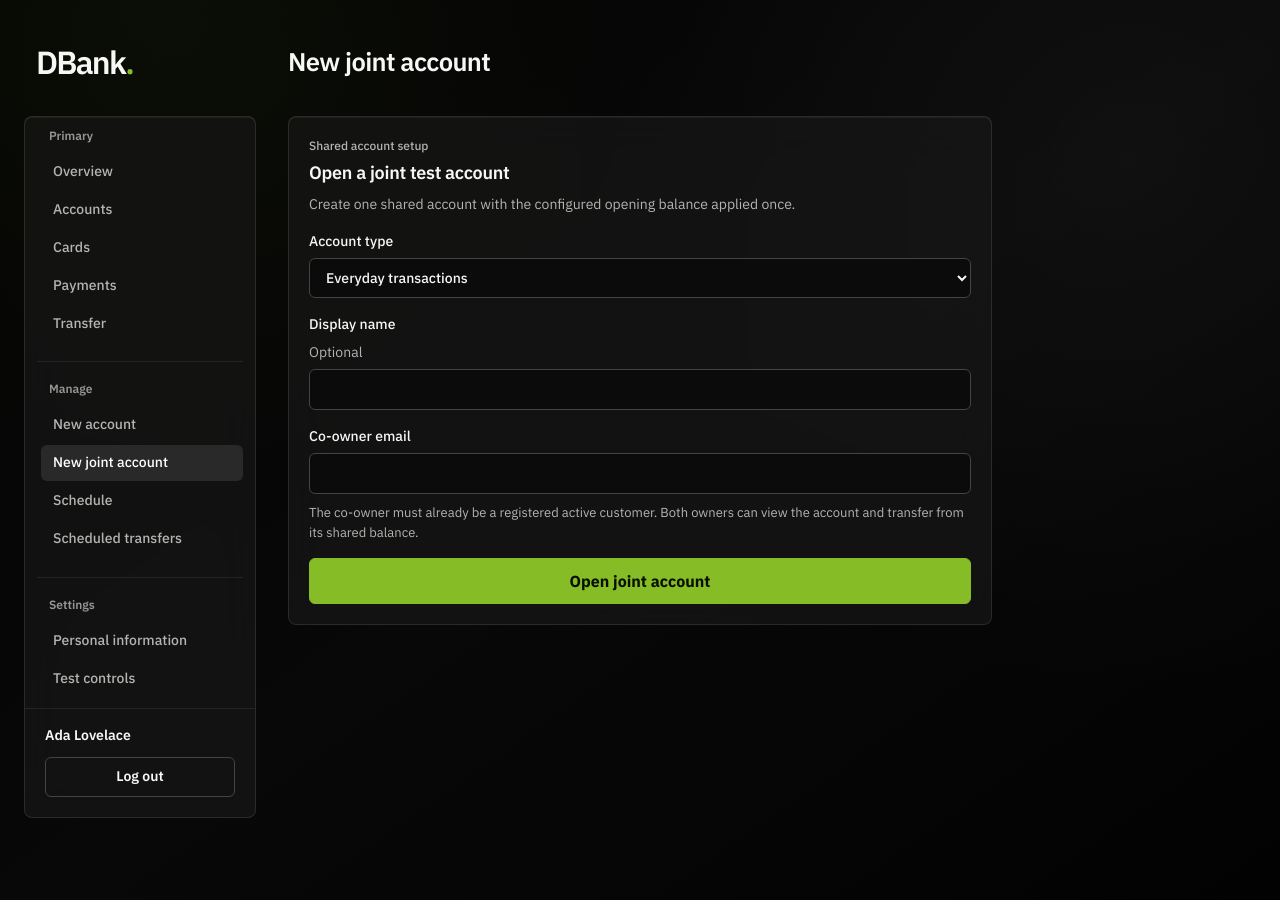
Scenario: Dashboard banking functions › creates a joint account with exactly three product types and no client-owned balance or owner IDs
This screenshot has width=1280, height=900.
Expected: the form with test id "joint-account-create-form" is shown, [309, 231, 971, 604]
Expected: the text with test id "joint-account-create-co-owner-help" shows "registered active customer", [309, 504, 964, 541]
Select "Business" in the dropdown labelled "Account type" at point(640, 278), box [309, 258, 971, 298]
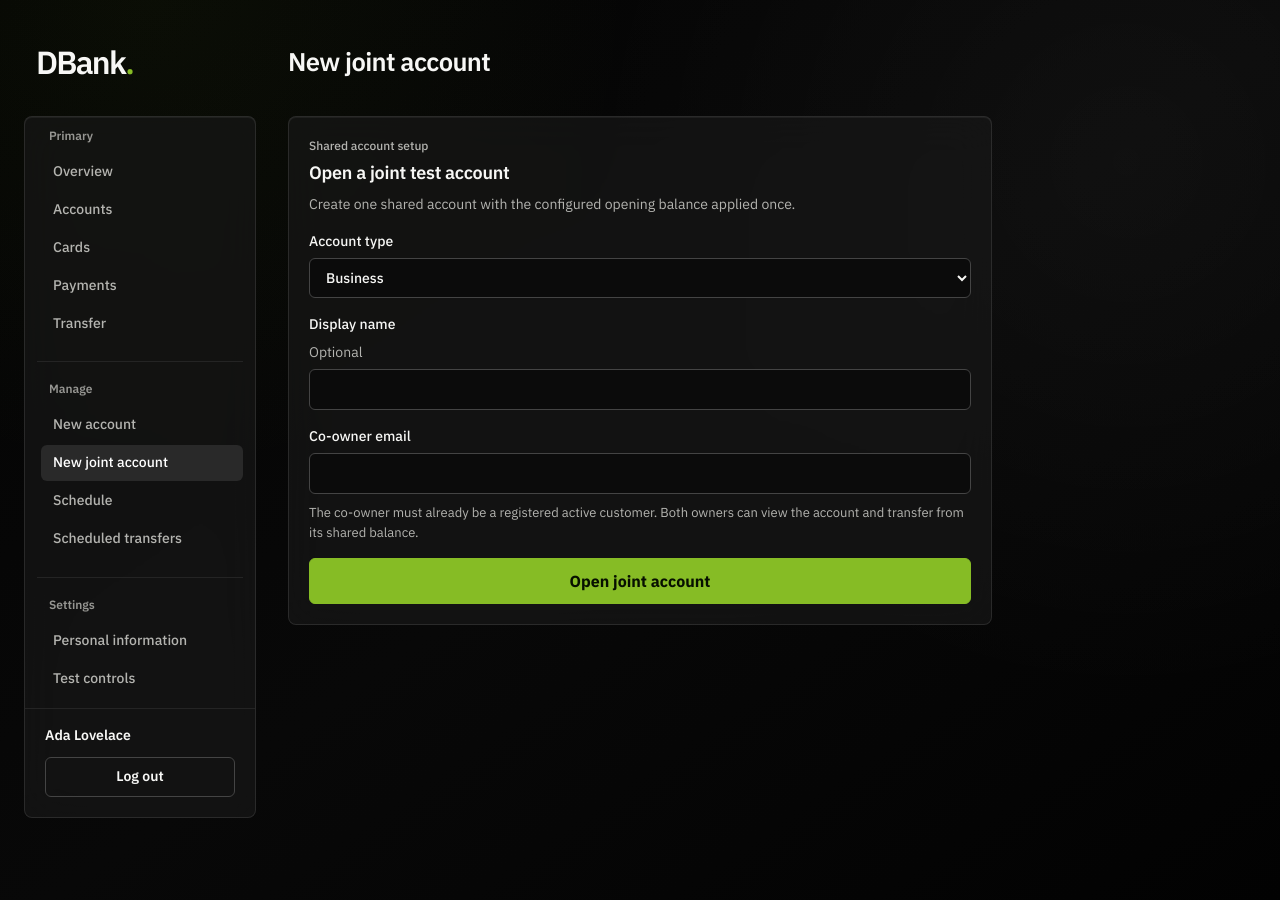
Type "Shared expenses" into the field with test id "joint-account-create-display-name" at point(640, 390), box [309, 369, 971, 410]
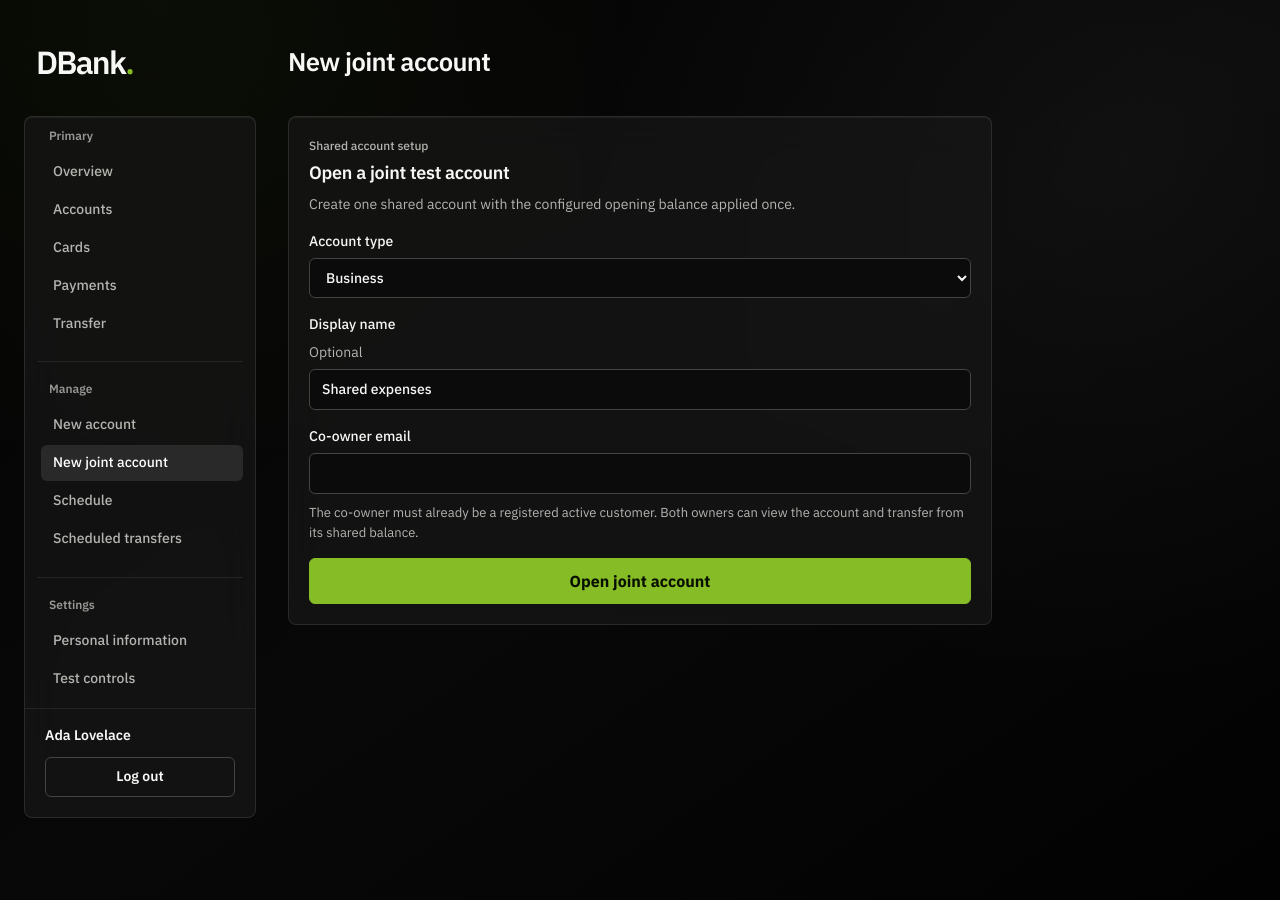
Type "grace@example.com" into the field labelled "Co-owner email" at point(640, 474), box [309, 453, 971, 494]
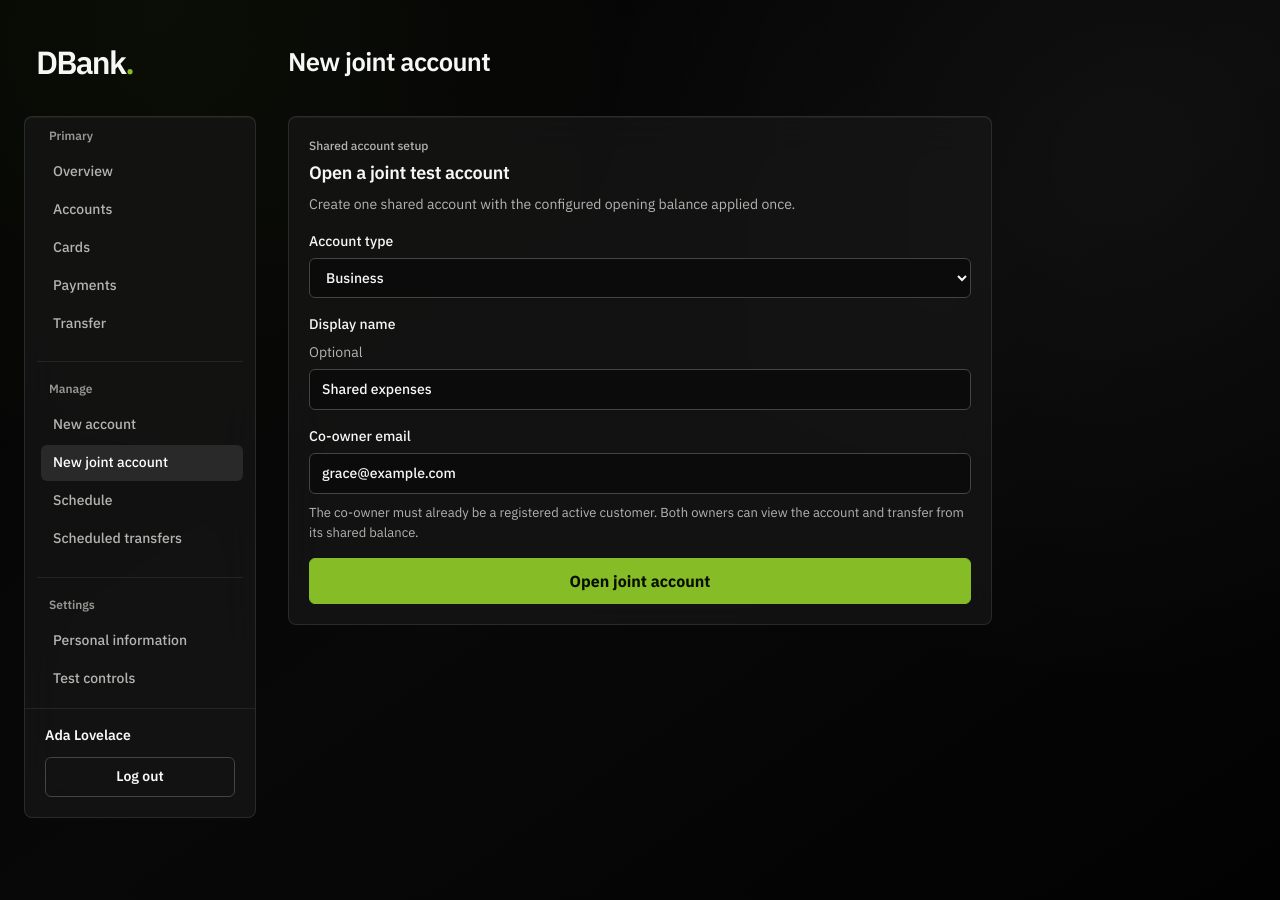
Click the button "Open joint account" at point(640, 581), box [309, 558, 971, 604]
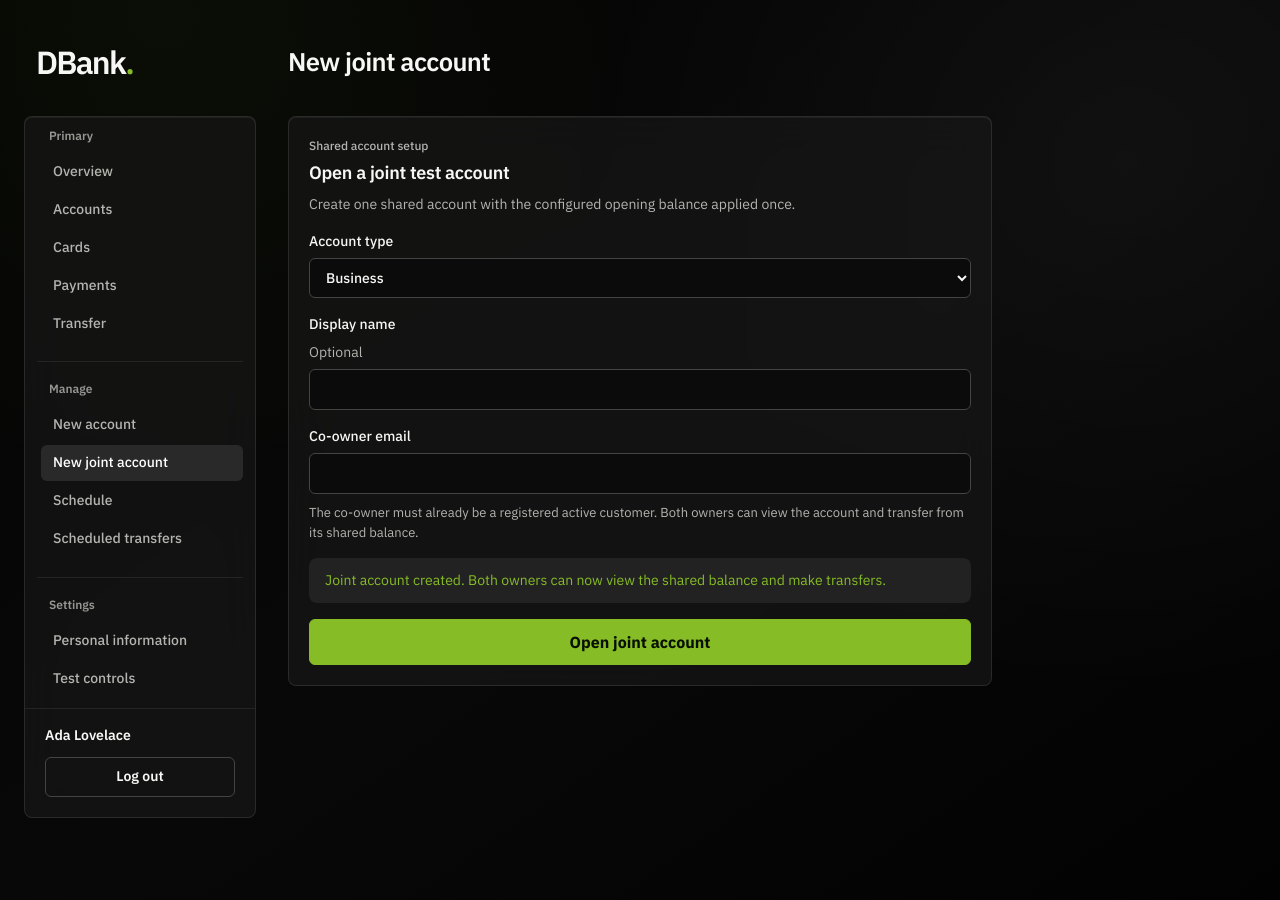
Result: the message shows "Joint account created" at [325, 571, 886, 589]
Result: the field with test id "joint-account-create-display-name" is empty at [309, 369, 971, 410]
Result: the field with test id "joint-account-create-co-owner-email" is empty at [309, 453, 971, 494]
